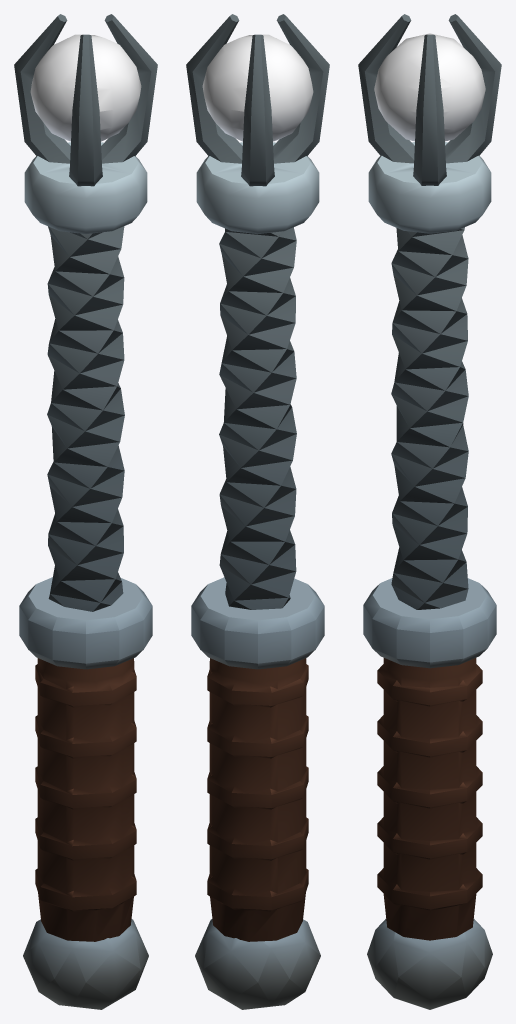
The model's file is wand_iron.glb.
3 renders of one model, left to right at view 1: azimuth 30°, elevation 25°; view 2: azimuth 150°, elevation 25°; view 3: azimuth 270°, elevation 25°, orthographic.
Parts seen in each view (by area): view 1: Item; view 2: Item; view 3: Item.
Part boxes in pixels (x1,y1,x2,y2): Item: [14, 14, 157, 1009]; Item: [186, 14, 329, 1009]; Item: [358, 14, 501, 1009].
Bounding box in the file's own units: 0.1617 × 1.2 × 0.1595.
3 materials, 3 textured.
